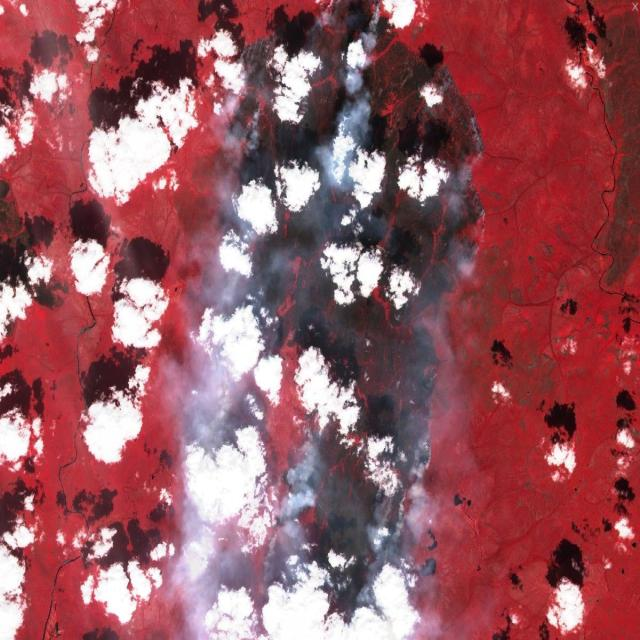fire: (187, 0, 488, 640)
